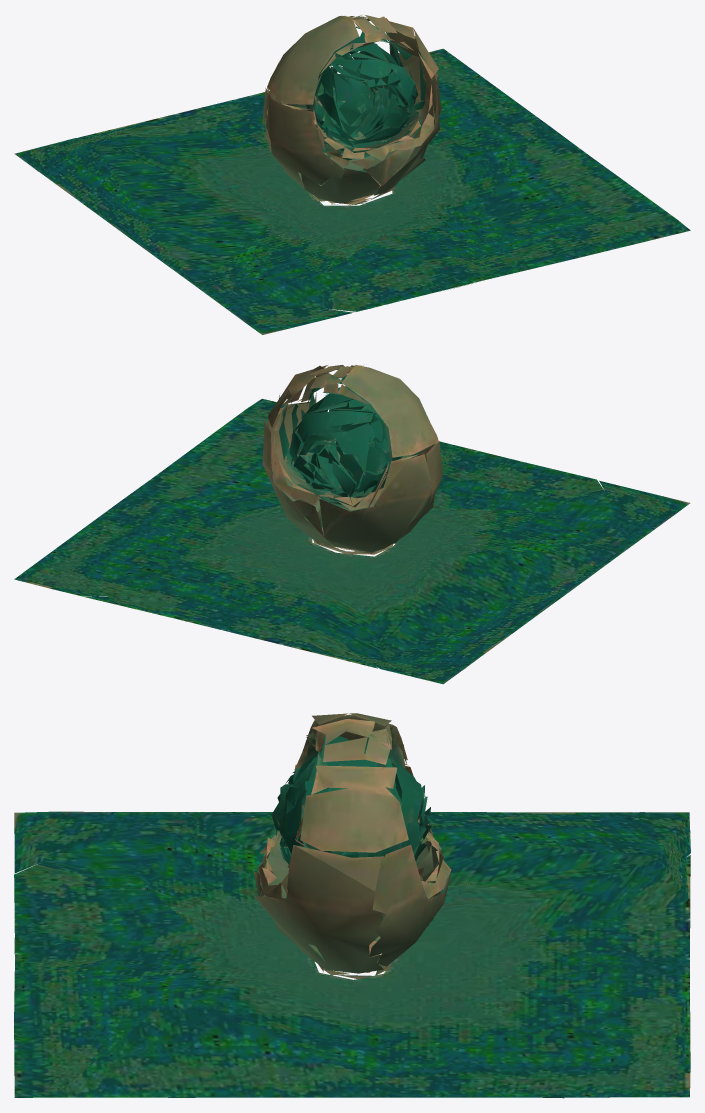
The model's file is relic-tideglass-heart-lod2.glb.
The picture shows the model from 3 angles, top to bottom: view 1: azimuth 30°, elevation 25°; view 2: azimuth 150°, elevation 25°; view 3: azimuth 270°, elevation 25°; orthographic projection. The views are drawn at different scales.
Parts seen in each view (by area): view 1: xenovoya_runtime_asset; view 2: xenovoya_runtime_asset; view 3: xenovoya_runtime_asset.
Boxes of the visible parts, x1,y1,x2,y2 form: xenovoya_runtime_asset: (14,15,690,334); xenovoya_runtime_asset: (14,364,690,684); xenovoya_runtime_asset: (14,713,690,1098).
Size of the model in its own units: 1 by 0.3972 by 1.
Materials: 1 (1 with a texture image).
